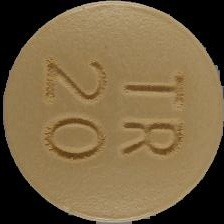60429-103: (0, 0, 224, 224)
